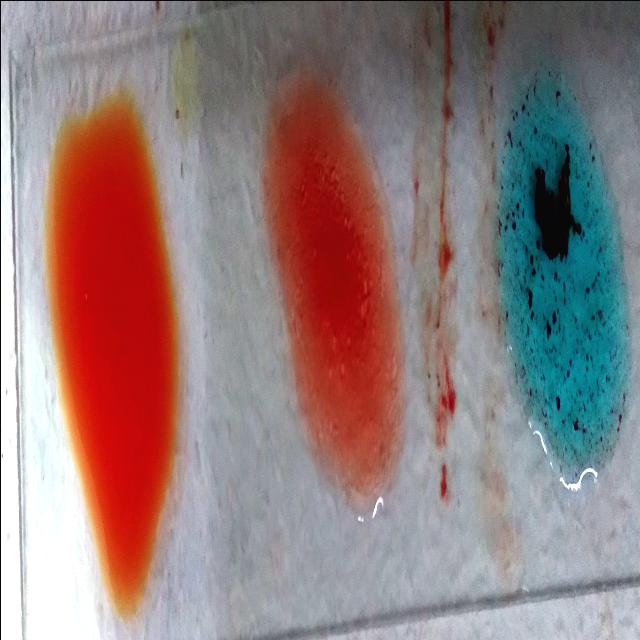A: (493, 64, 622, 498)
D: (268, 92, 393, 484)
